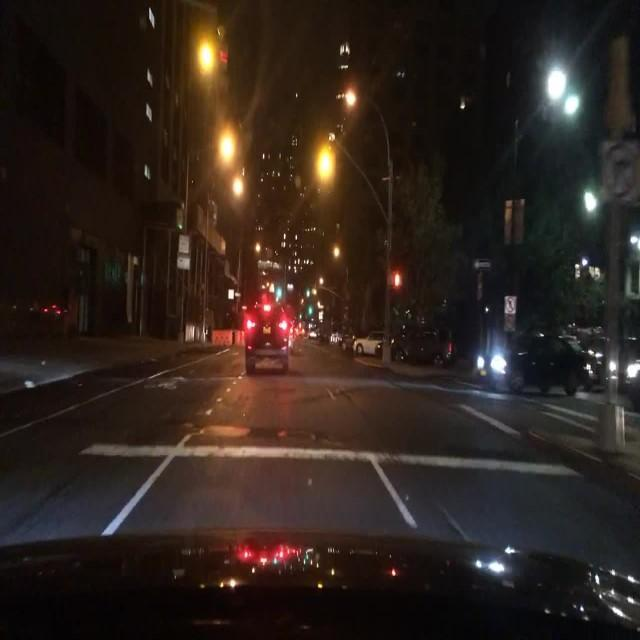normal: (225, 279, 304, 382)
